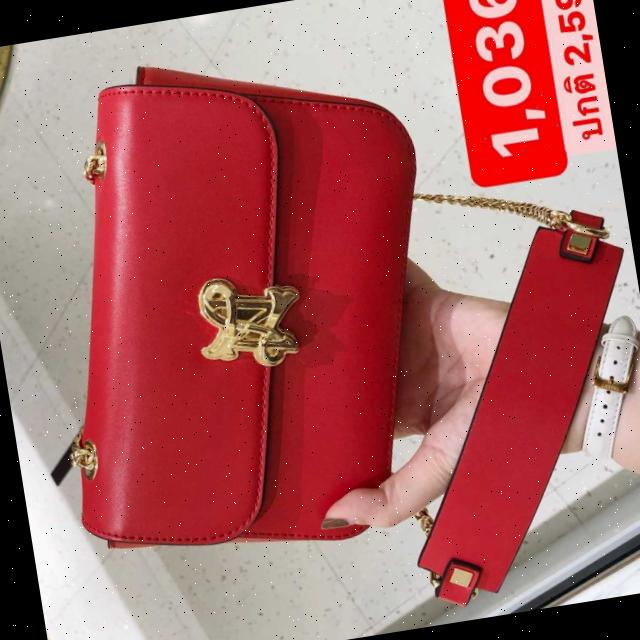handbag: (11, 19, 487, 586)
